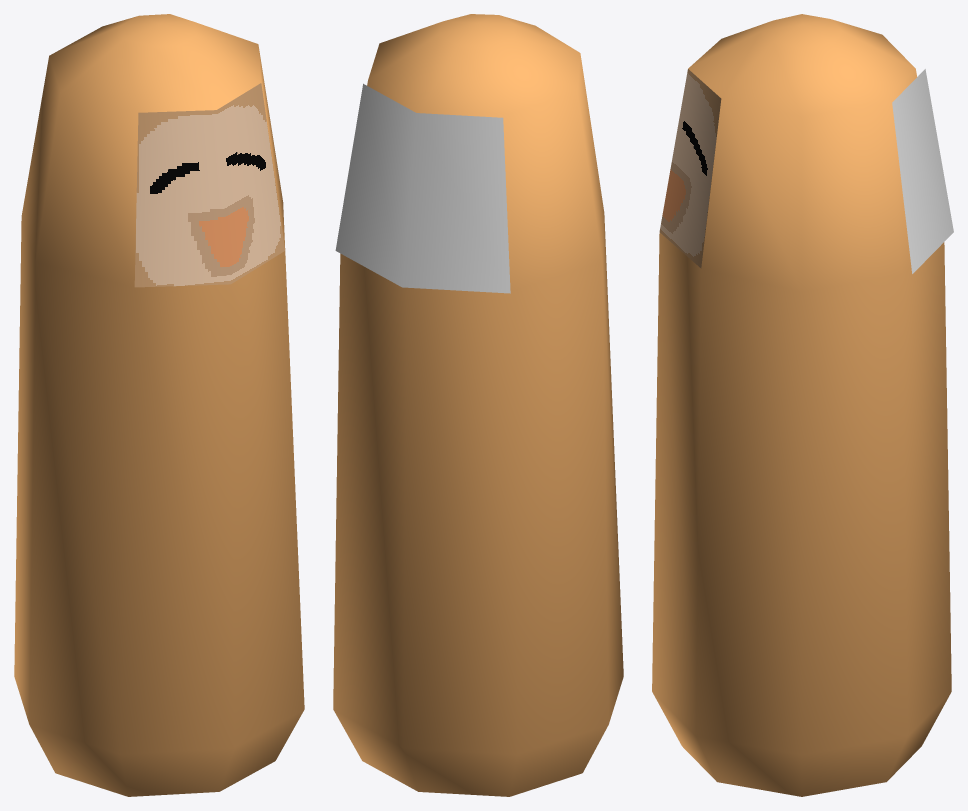
The model's file is OTA_N_01.glb.
The picture shows the model from 3 angles, left to right: view 1: azimuth 30°, elevation 25°; view 2: azimuth 150°, elevation 25°; view 3: azimuth 270°, elevation 25°; orthographic projection.
Parts seen in each view (by area): view 1: FRAME_ROOT; view 2: FRAME_ROOT; view 3: FRAME_ROOT.
Boxes of the visible parts, x1,y1,x2,y2 form: FRAME_ROOT: (14, 14, 304, 796); FRAME_ROOT: (333, 14, 623, 796); FRAME_ROOT: (652, 14, 953, 796).
Size of the model in its own units: 1.28 by 3.4 by 1.29.
Materials: 3 (3 with a texture image).
